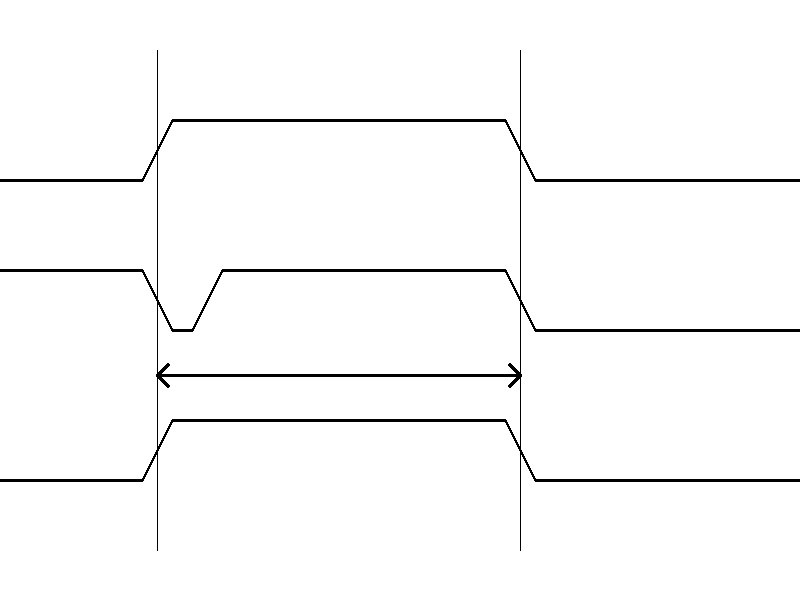double_arrow: (157, 360, 520, 390)
